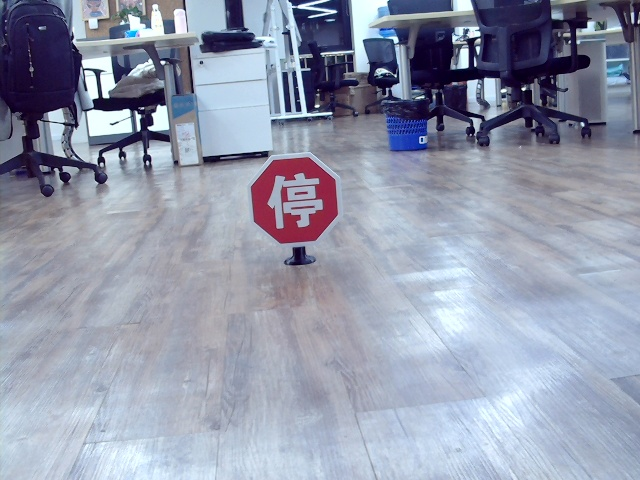stop: (262, 172, 322, 229)
